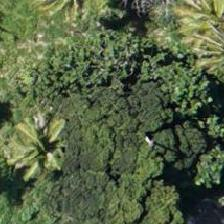coconut_tree: (0, 102, 89, 192)
